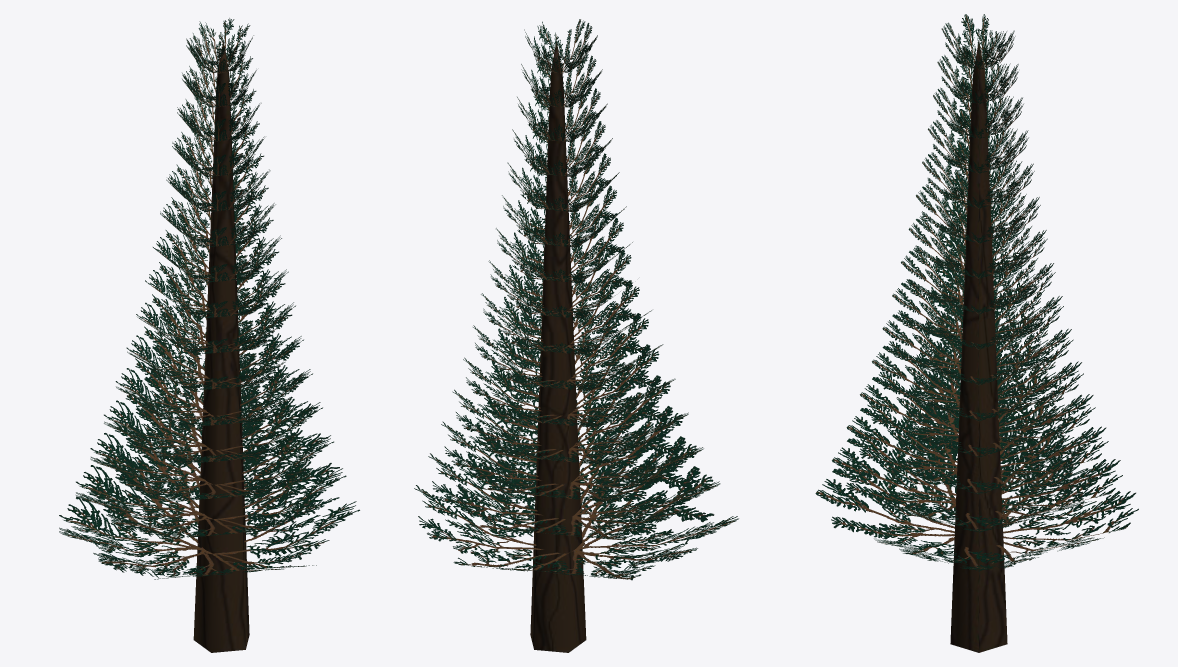
File: Pine.FBX
3 renders of one model, left to right at view 1: azimuth 30°, elevation 25°; view 2: azimuth 150°, elevation 25°; view 3: azimuth 270°, elevation 25°, orthographic.
Parts seen in each view (by area): view 1: Object001; view 2: Object001; view 3: Object001.
Part boxes in pixels (bbox=[...]): Object001: bbox=[59, 18, 359, 652]; Object001: bbox=[414, 19, 738, 652]; Object001: bbox=[815, 14, 1138, 652].
Size of the model in its own units: 371 by 711 by 390.
